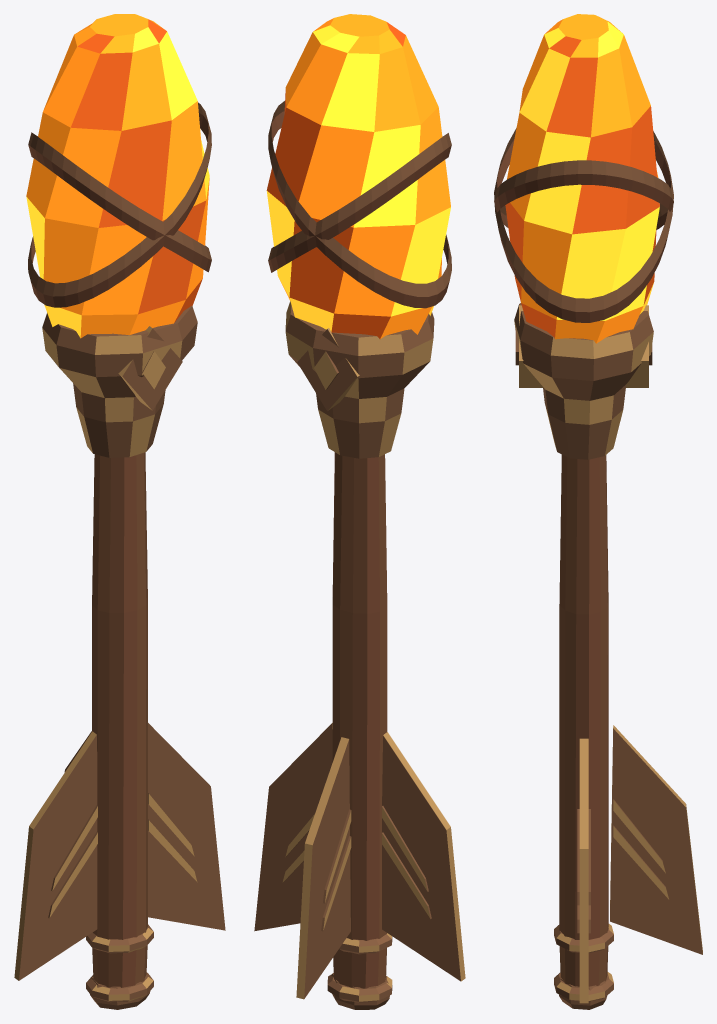
Rendered from wsc-gear-009-pitch-bolt.glb.
The picture shows the model from 3 angles, left to right: view 1: azimuth 30°, elevation 25°; view 2: azimuth 150°, elevation 25°; view 3: azimuth 270°, elevation 25°; orthographic projection.
Visible parts, largest first — view 1: WSC-GEAR-009 | Pitch display proxy; view 2: WSC-GEAR-009 | Pitch display proxy; view 3: WSC-GEAR-009 | Pitch display proxy.
Boxes of the visible parts, bbox=[...] form: WSC-GEAR-009 | Pitch display proxy: bbox=[14, 14, 225, 1009]; WSC-GEAR-009 | Pitch display proxy: bbox=[254, 14, 465, 1009]; WSC-GEAR-009 | Pitch display proxy: bbox=[494, 14, 702, 1009].
Bounding box in the file's own units: 0.212 × 0.956 × 0.1862.
